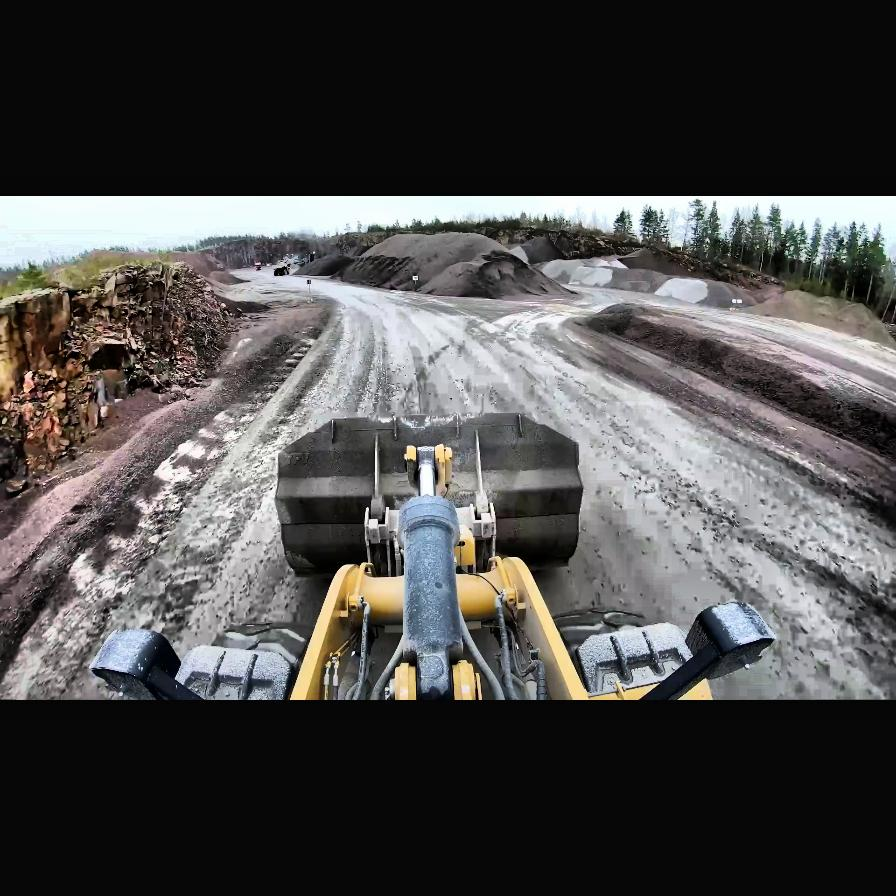anchor: (404, 443, 452, 499)
pile of gravel: (572, 304, 896, 494), (337, 231, 549, 299), (558, 252, 770, 310), (744, 290, 894, 352), (294, 254, 350, 278)
